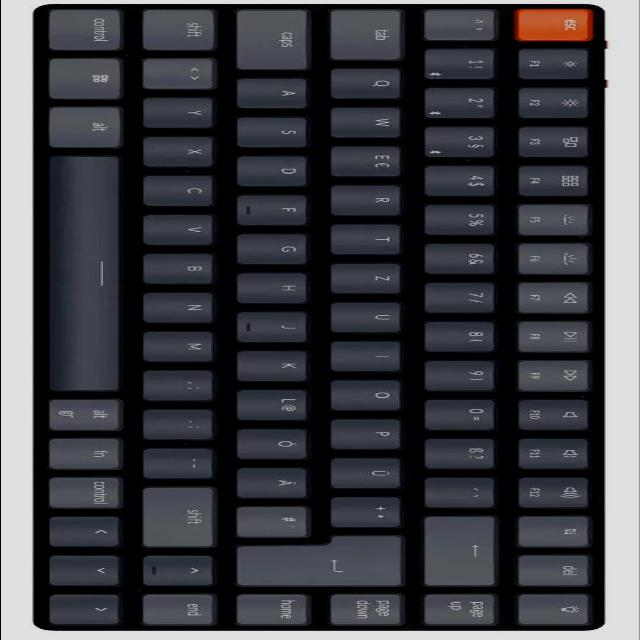0: (427, 397, 503, 430)
1: (427, 46, 503, 78)
2: (427, 85, 503, 117)
3: (427, 125, 503, 157)
4: (427, 163, 503, 195)
5: (427, 202, 504, 235)
6: (427, 240, 503, 274)
7: (427, 280, 503, 312)
8: (427, 319, 503, 352)
9: (429, 358, 503, 391)
a: (241, 76, 315, 108)
accent: (429, 475, 503, 507)
ae: (241, 465, 315, 497)
alt-left: (51, 104, 129, 148)
altgr-right: (51, 396, 128, 430)
b: (148, 250, 222, 284)
c: (148, 173, 221, 206)
caret: (429, 7, 505, 39)
comma: (148, 367, 221, 399)
d: (241, 153, 315, 185)
del: (427, 513, 504, 585)
e: (335, 144, 409, 176)
enter: (236, 533, 414, 587)
f: (240, 193, 316, 225)
g: (241, 232, 315, 264)
h: (241, 270, 315, 302)
hash: (239, 504, 317, 536)
i: (336, 338, 409, 370)
j: (239, 309, 316, 341)
k: (240, 348, 316, 380)
keyboard: (23, 0, 627, 635)
l: (240, 387, 316, 419)
less: (146, 56, 222, 89)
m: (148, 329, 222, 361)
minus: (148, 445, 221, 477)
n: (148, 290, 221, 322)
o: (335, 377, 409, 410)
oe: (241, 426, 315, 458)
p: (335, 417, 409, 449)
plus: (335, 495, 409, 527)
point: (148, 407, 221, 439)
q: (333, 65, 409, 98)
r: (335, 183, 409, 215)
s: (241, 115, 315, 147)
shift-left: (147, 6, 224, 50)
shift-lock: (239, 7, 316, 69)
shift-right: (147, 484, 224, 546)
space: (48, 150, 128, 393)
ss: (427, 435, 503, 468)
strg-left: (50, 6, 130, 50)
strg-right: (51, 474, 129, 509)
t: (335, 222, 409, 254)
tab: (333, 7, 410, 59)
u: (333, 300, 409, 332)
ue: (333, 455, 409, 488)
v: (148, 213, 221, 245)
w: (334, 105, 410, 137)
x: (148, 134, 221, 166)
y: (147, 95, 221, 127)
z: (335, 261, 409, 293)
